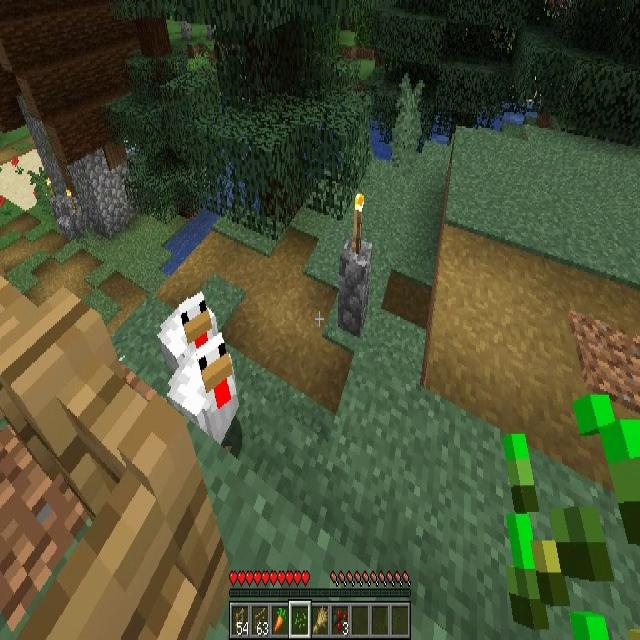duck: (168, 330, 242, 444), (159, 293, 218, 377)
